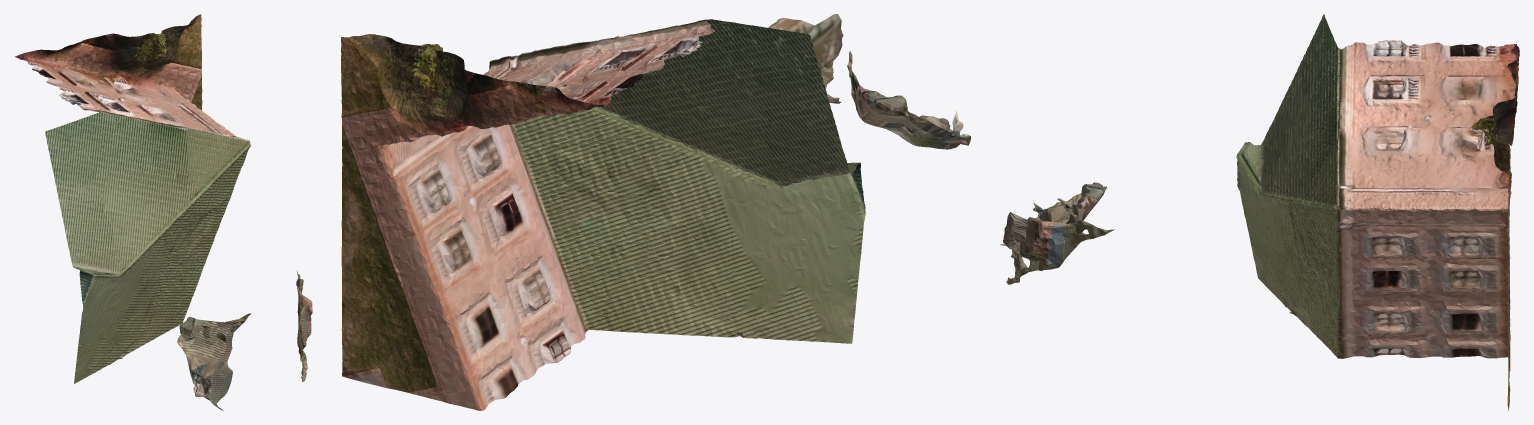
File: tile_8_7.obj
3 renders of one model, left to right at view 1: azimuth 30°, elevation 25°; view 2: azimuth 150°, elevation 25°; view 3: azimuth 270°, elevation 25°, orthographic. The views are drawn at different scales.
Parts seen in each view (by area): view 1: texture_0; view 2: texture_0; view 3: texture_0.
Part boxes in pixels (x1,y1,x2,y2): texture_0: (14,14,312,410); texture_0: (341,14,970,410); texture_0: (1000,14,1519,410).
Bounding box in the file's own units: 13.88 × 12.92 × 23.06.
Materials: 1 (1 with a texture image).
